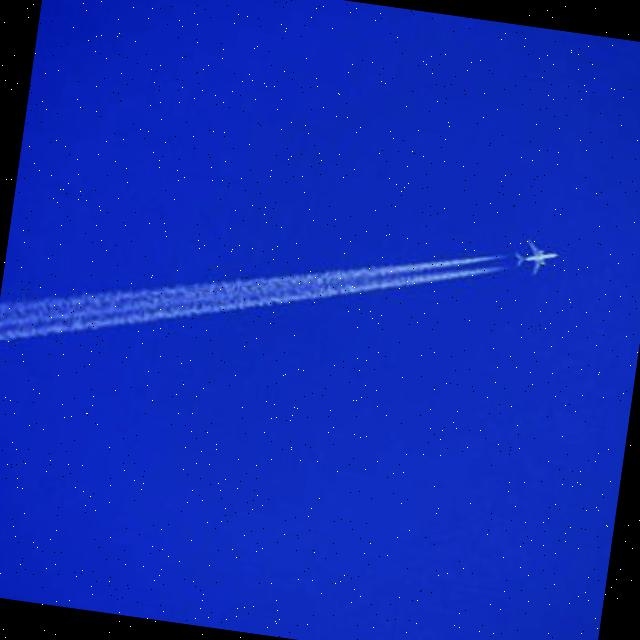Ct: (1, 107, 503, 453)
